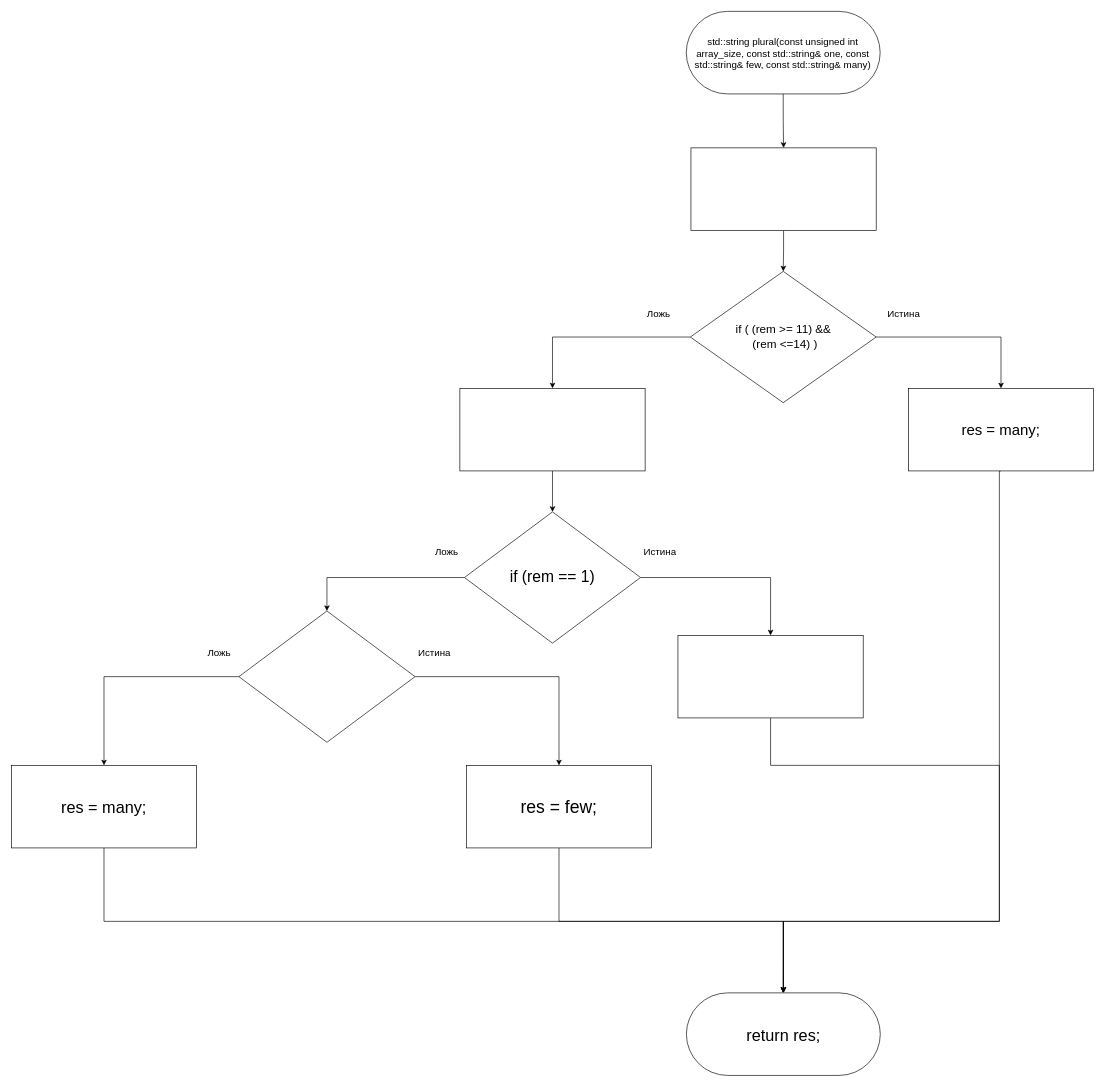
The diagram is 1105 pixels wide and 1087 high, and some of its shapes have lost their labels. The box of each missing label's shape, as (x1, y1, x2, y2) in pixels:
if ( (rem >= 2) && (rem <= 4) ): (238, 610, 415, 742)
rem = array_size % 10;: (459, 388, 645, 471)
res = one;: (677, 635, 863, 718)
unsigned int rem = array_size % 100;: (690, 147, 876, 230)
